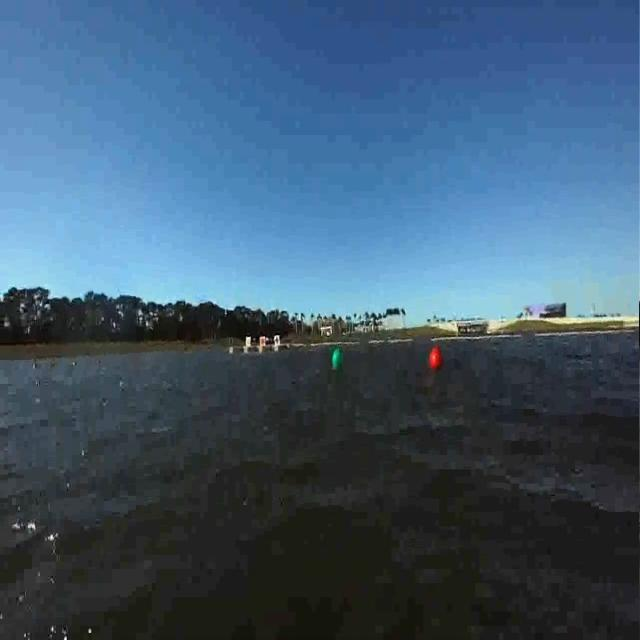green-buoy: (332, 349, 343, 366)
red-buoy: (430, 346, 442, 372)
